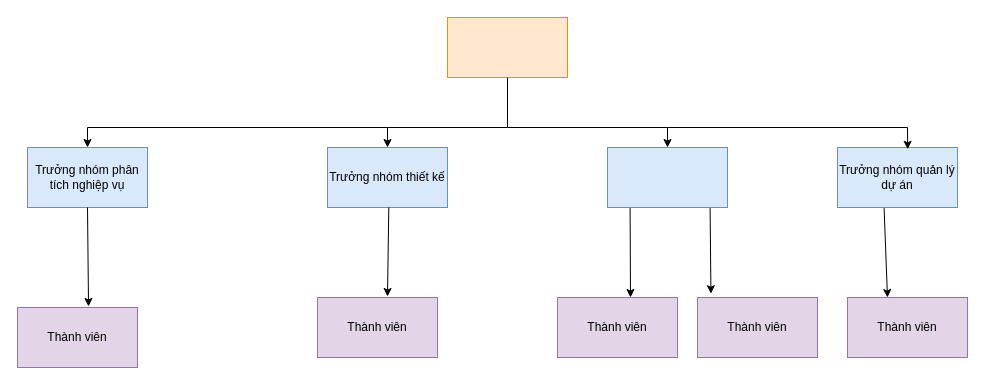
Some shapes in this 985 by 385 pixel diagram are drawn without their labels. The centre of each missing label's shape, as x and y in pixels:
Giám đốc dự án: [507,47]
Trưởng nhóm lập trình: [667,177]
